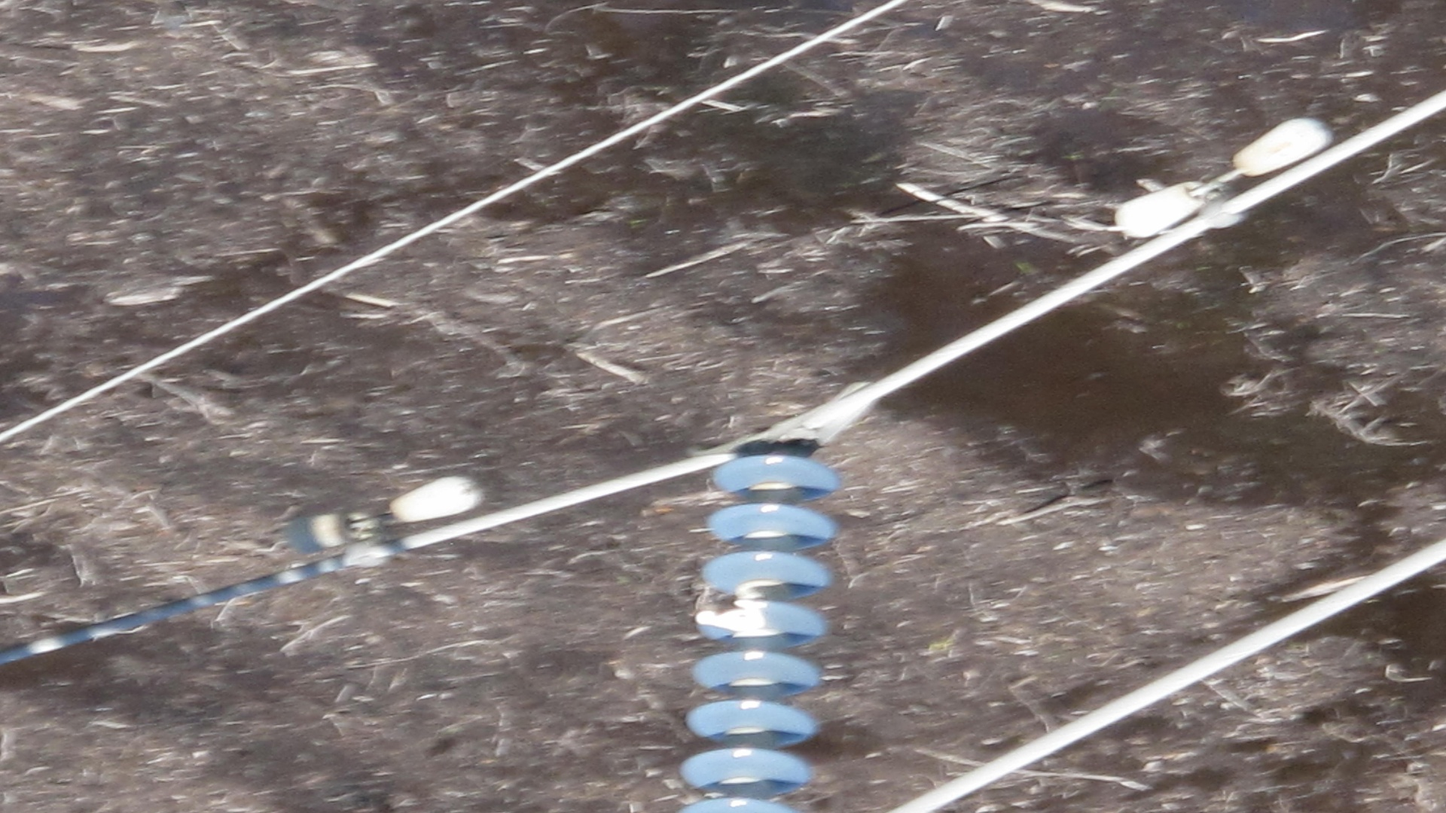insulator: (674, 449, 849, 813)
insulator_breakage: (693, 596, 771, 635)
